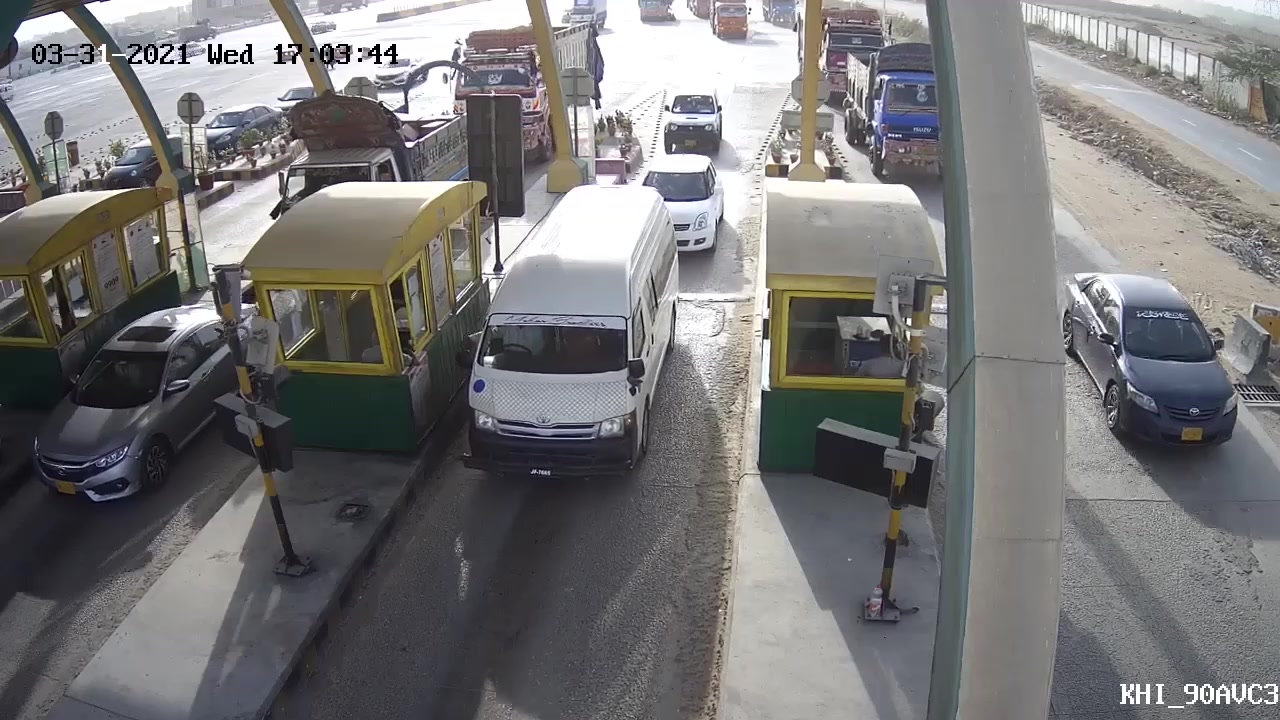F2: (453, 182, 683, 496)
